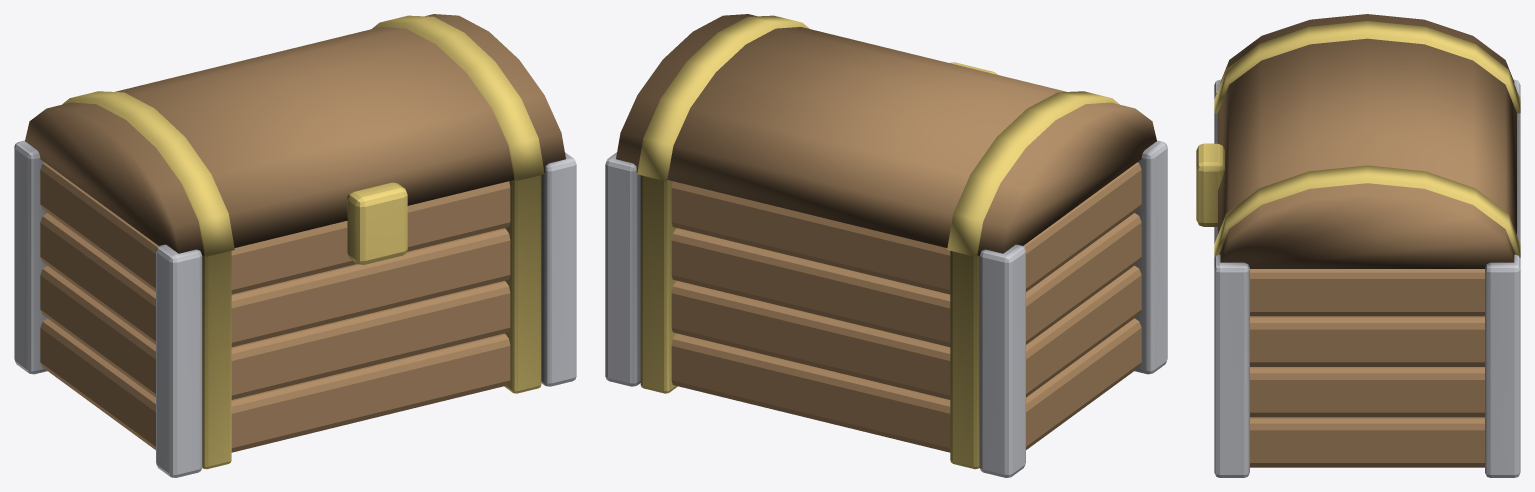
The model's file is chest.fbx.
3 renders of one model, left to right at view 1: azimuth 30°, elevation 25°; view 2: azimuth 150°, elevation 25°; view 3: azimuth 270°, elevation 25°, orthographic. The views are drawn at different scales.
Visible parts, largest first — view 1: Lid, Plank.001, Plank, Plank.002, Plank.003, Corner, Corner.002, Band.001, Band, LidBand@Lid, LidBand@Lid.001, Corner.001 (+1 smaller); view 2: Lid, Plank.002, Plank.001, Plank, Plank.003, Corner.001, Corner.003, Band.001, Band, LidBand@Lid, LidBand@Lid.001, Corner; view 3: Lid, Plank, Plank.001, Plank.002, Plank.003, Corner.002, Corner.003, LidBand@Lid, LidBand@Lid.001, Lock@Lid, Corner.001.
Part boxes in pixels (left/top/right/bottom): Lid: left=25, top=14, right=565, bottom=255; Plank.001: left=40, top=265, right=510, bottom=399; Plank: left=40, top=318, right=510, bottom=452; Plank.002: left=40, top=213, right=510, bottom=347; Plank.003: left=40, top=162, right=510, bottom=294; Corner: left=156, top=244, right=202, bottom=477; Corner.002: left=541, top=152, right=576, bottom=386; Band.001: left=504, top=175, right=541, bottom=393; Band: left=202, top=251, right=231, bottom=469; LidBand@Lid: left=62, top=91, right=234, bottom=256; LidBand@Lid.001: left=372, top=15, right=544, bottom=180; Corner.001: left=14, top=140, right=47, bottom=374; Lid: left=616, top=14, right=1156, bottom=255; Plank.002: left=671, top=213, right=1141, bottom=347; Plank.001: left=671, top=265, right=1141, bottom=399; Plank: left=671, top=318, right=1141, bottom=452; Plank.003: left=671, top=162, right=1141, bottom=294; Corner.001: left=979, top=244, right=1025, bottom=477; Corner.003: left=605, top=152, right=640, bottom=386; Band.001: left=640, top=175, right=677, bottom=393; Band: left=950, top=251, right=979, bottom=469; LidBand@Lid: left=947, top=91, right=1119, bottom=256; LidBand@Lid.001: left=637, top=15, right=809, bottom=180; Corner: left=1134, top=140, right=1167, bottom=374; Lid: left=1218, top=14, right=1516, bottom=268; Plank: left=1250, top=417, right=1484, bottom=467; Plank.001: left=1250, top=367, right=1484, bottom=417; Plank.002: left=1250, top=316, right=1484, bottom=366; Plank.003: left=1250, top=269, right=1484, bottom=316; Corner.002: left=1214, top=254, right=1249, bottom=477; Corner.003: left=1485, top=254, right=1520, bottom=477; LidBand@Lid: left=1214, top=21, right=1520, bottom=113; LidBand@Lid.001: left=1214, top=165, right=1520, bottom=257; Lock@Lid: left=1196, top=143, right=1224, bottom=226; Corner.001: left=1513, top=79, right=1520, bottom=259.
Bounding box in the file's own units: 0.63 × 0.4426 × 0.455.
